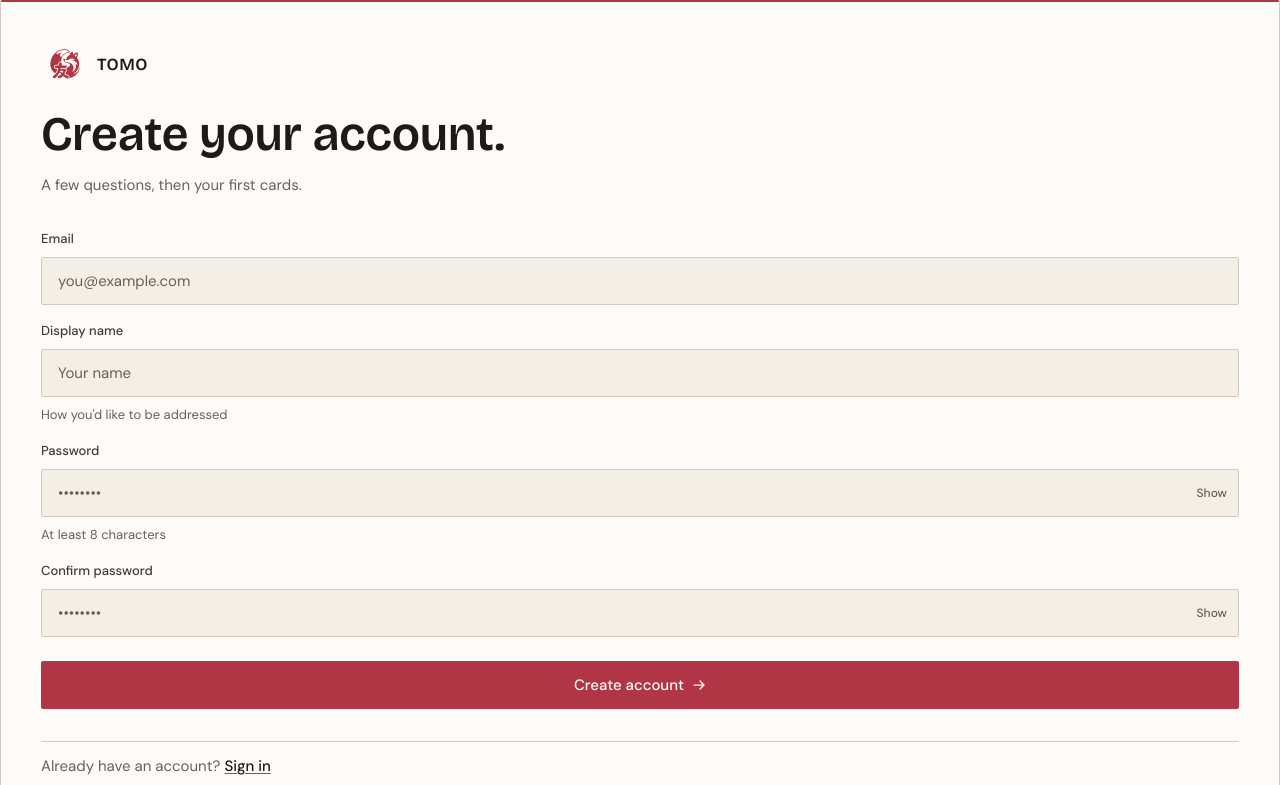
Scenario: signupPage › validation › flags an empty confirm password
The image size is (1280, 785).
In the field labelled "Email": (640, 281) left=41, top=257, right=1239, bottom=305, type "user@example.com"
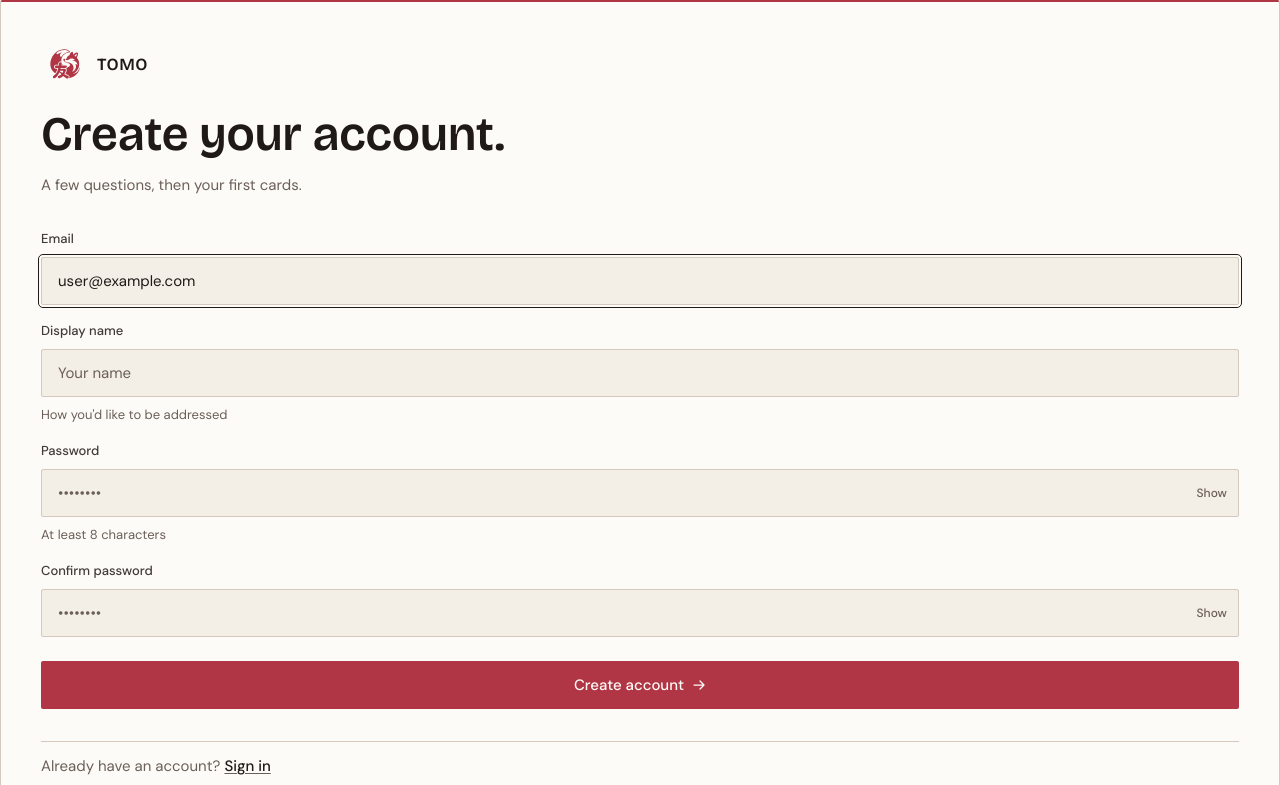
In the field labelled "Display name": (640, 373) left=41, top=349, right=1239, bottom=397, type "Test User"
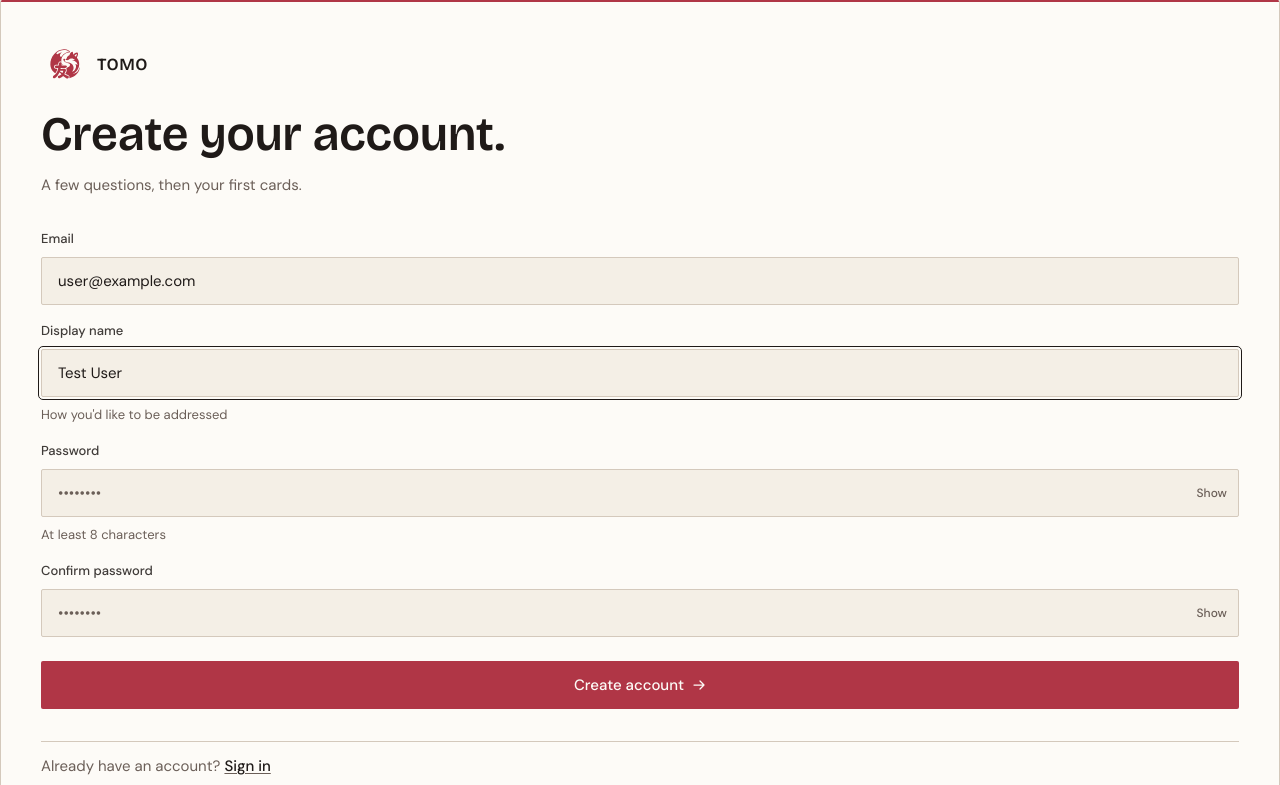
In the password field labelled "Password": (640, 493) left=41, top=469, right=1239, bottom=517, type "Hunter2222"
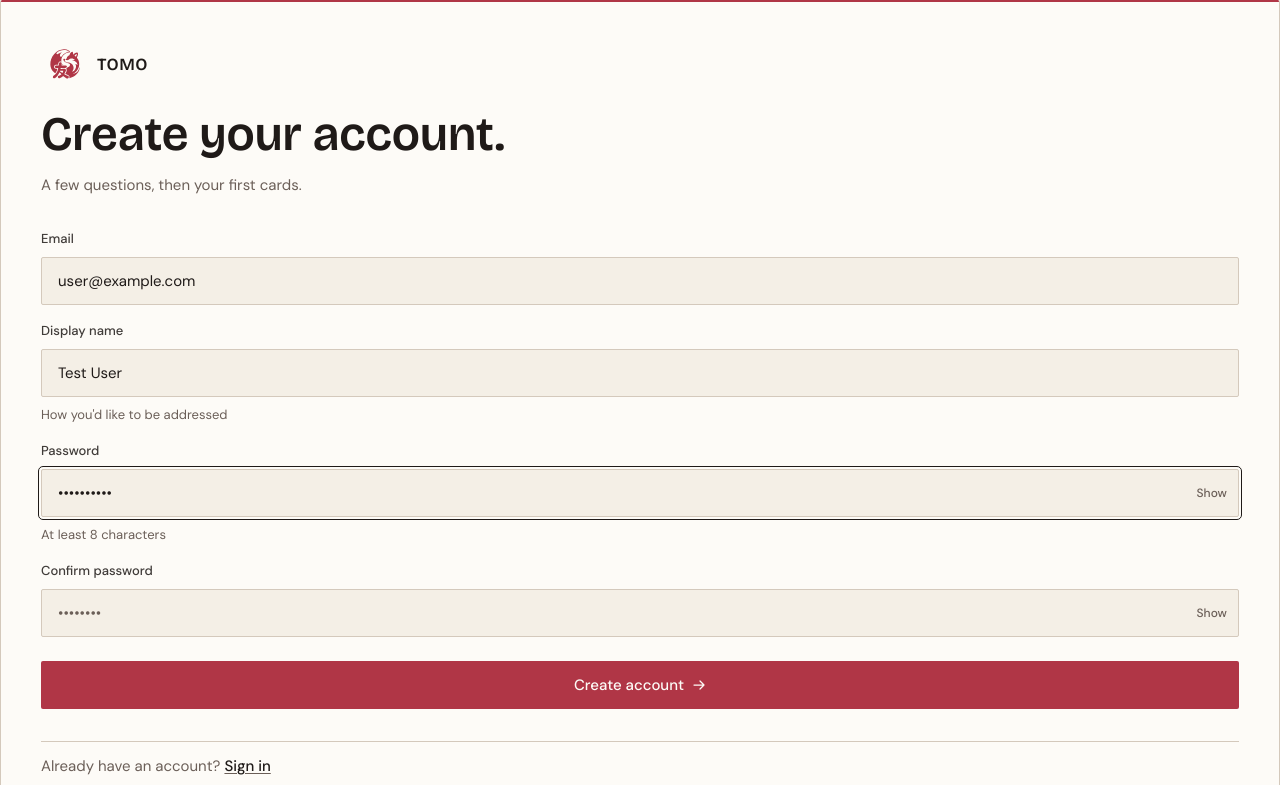
Click the button "Create account": (640, 685) left=41, top=661, right=1239, bottom=709
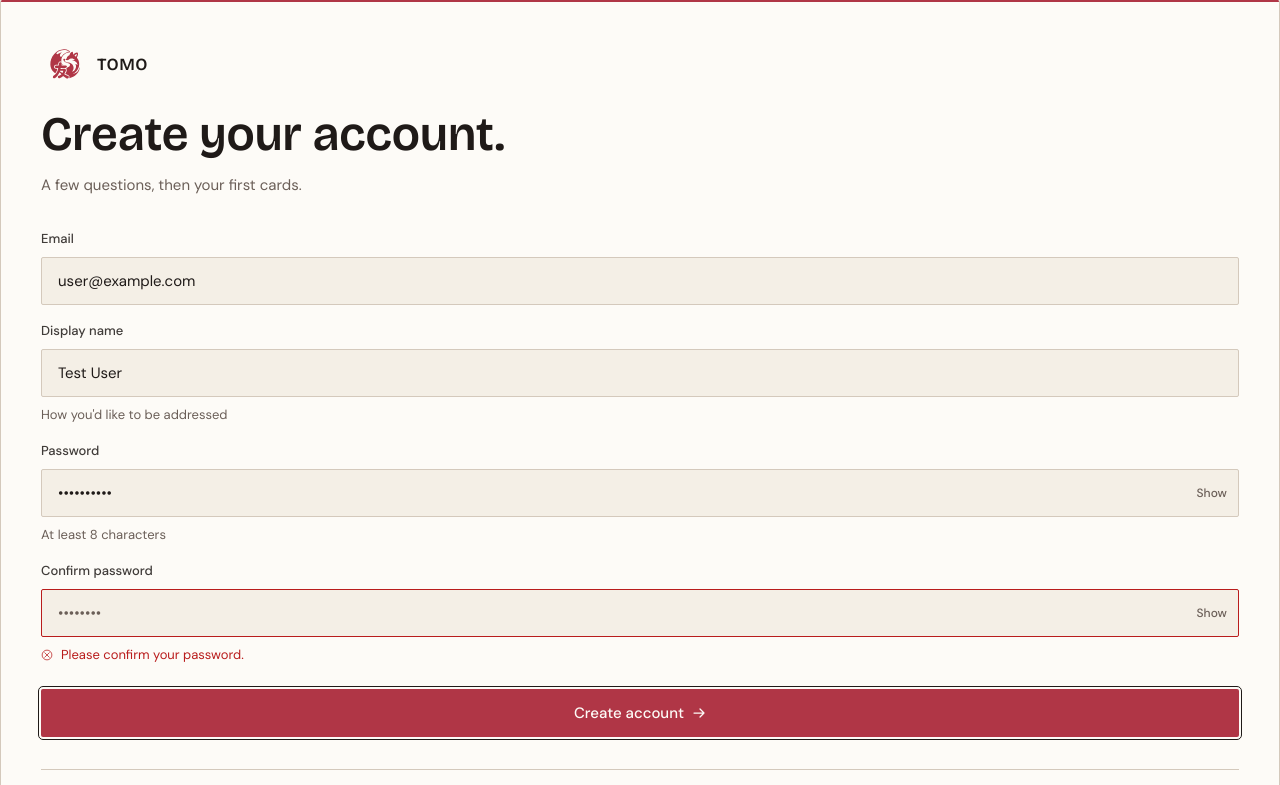
Check: the text "Please confirm your password." is shown, box left=61, top=645, right=244, bottom=665
